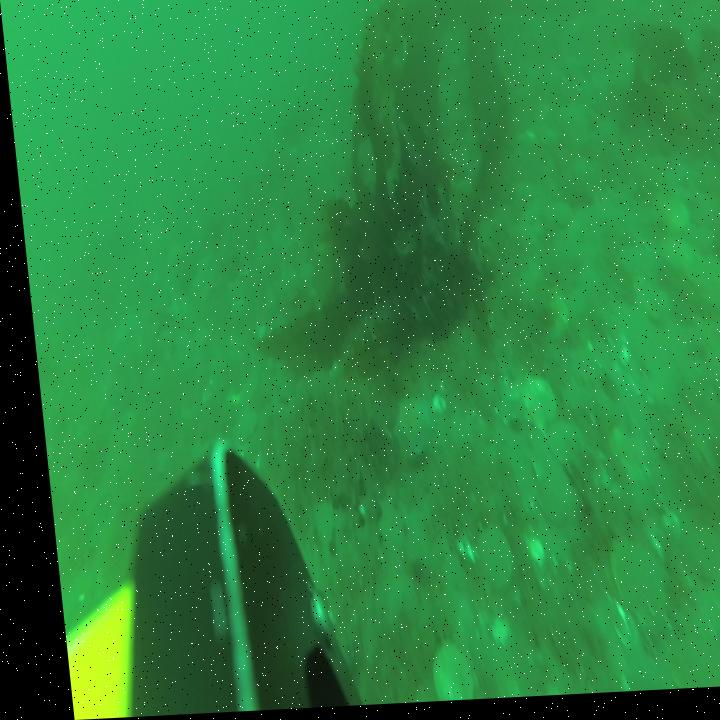scallop: (596, 543, 653, 634), (662, 517, 720, 597), (461, 531, 505, 608), (509, 372, 557, 441), (522, 468, 569, 533), (416, 648, 460, 705), (539, 423, 578, 478), (628, 279, 665, 333), (697, 347, 720, 419), (540, 201, 570, 241), (655, 205, 686, 242), (224, 414, 249, 447)
starfish: (381, 401, 425, 474)
